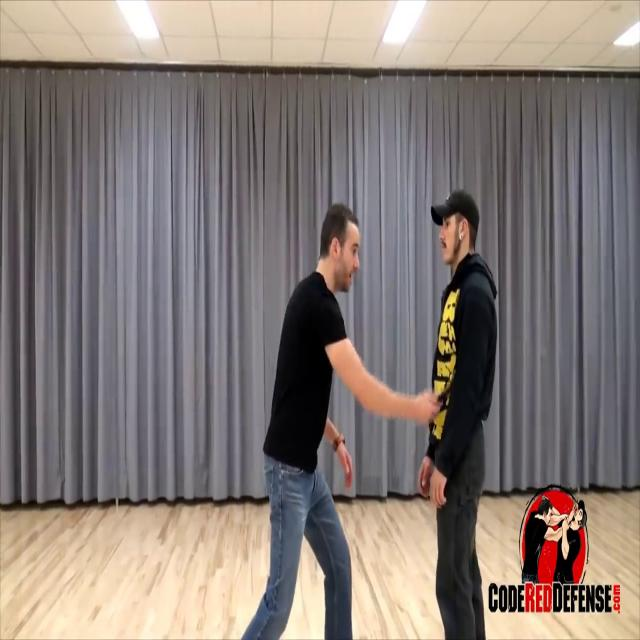Knife_Handle: (414, 376, 454, 423)
